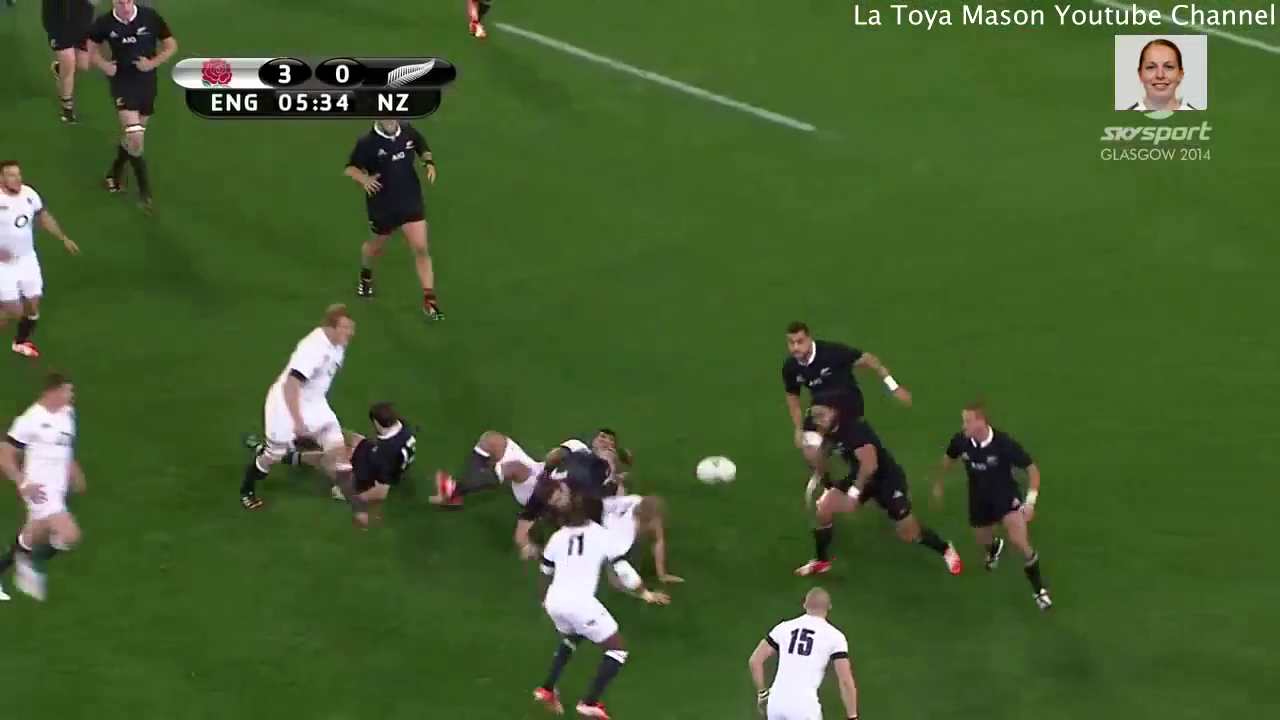ball: (680, 445, 746, 502)
player: (797, 404, 966, 598), (927, 399, 1075, 620), (316, 118, 469, 330), (236, 292, 363, 516), (1, 366, 97, 627), (528, 487, 632, 715), (81, 1, 179, 229), (234, 397, 433, 497), (737, 581, 875, 720), (1, 153, 89, 361), (762, 320, 914, 418)
ruck: (410, 414, 687, 580)
